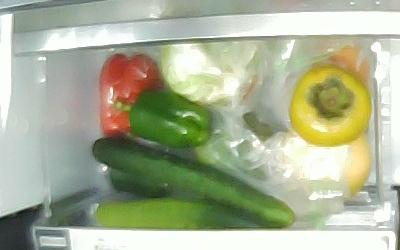broccoli_vinyl: (195, 112, 275, 180)
cucumber: (93, 137, 296, 229), (97, 199, 262, 229)
grapefruit_vinyl: (282, 129, 371, 202)
lettuce_vinyl: (159, 40, 257, 107)
paprika: (115, 89, 211, 148), (108, 166, 173, 198)
paprika_vinyl: (99, 53, 164, 135)
peach_vinyl: (319, 44, 370, 82)
persimmon: (289, 65, 372, 147)
